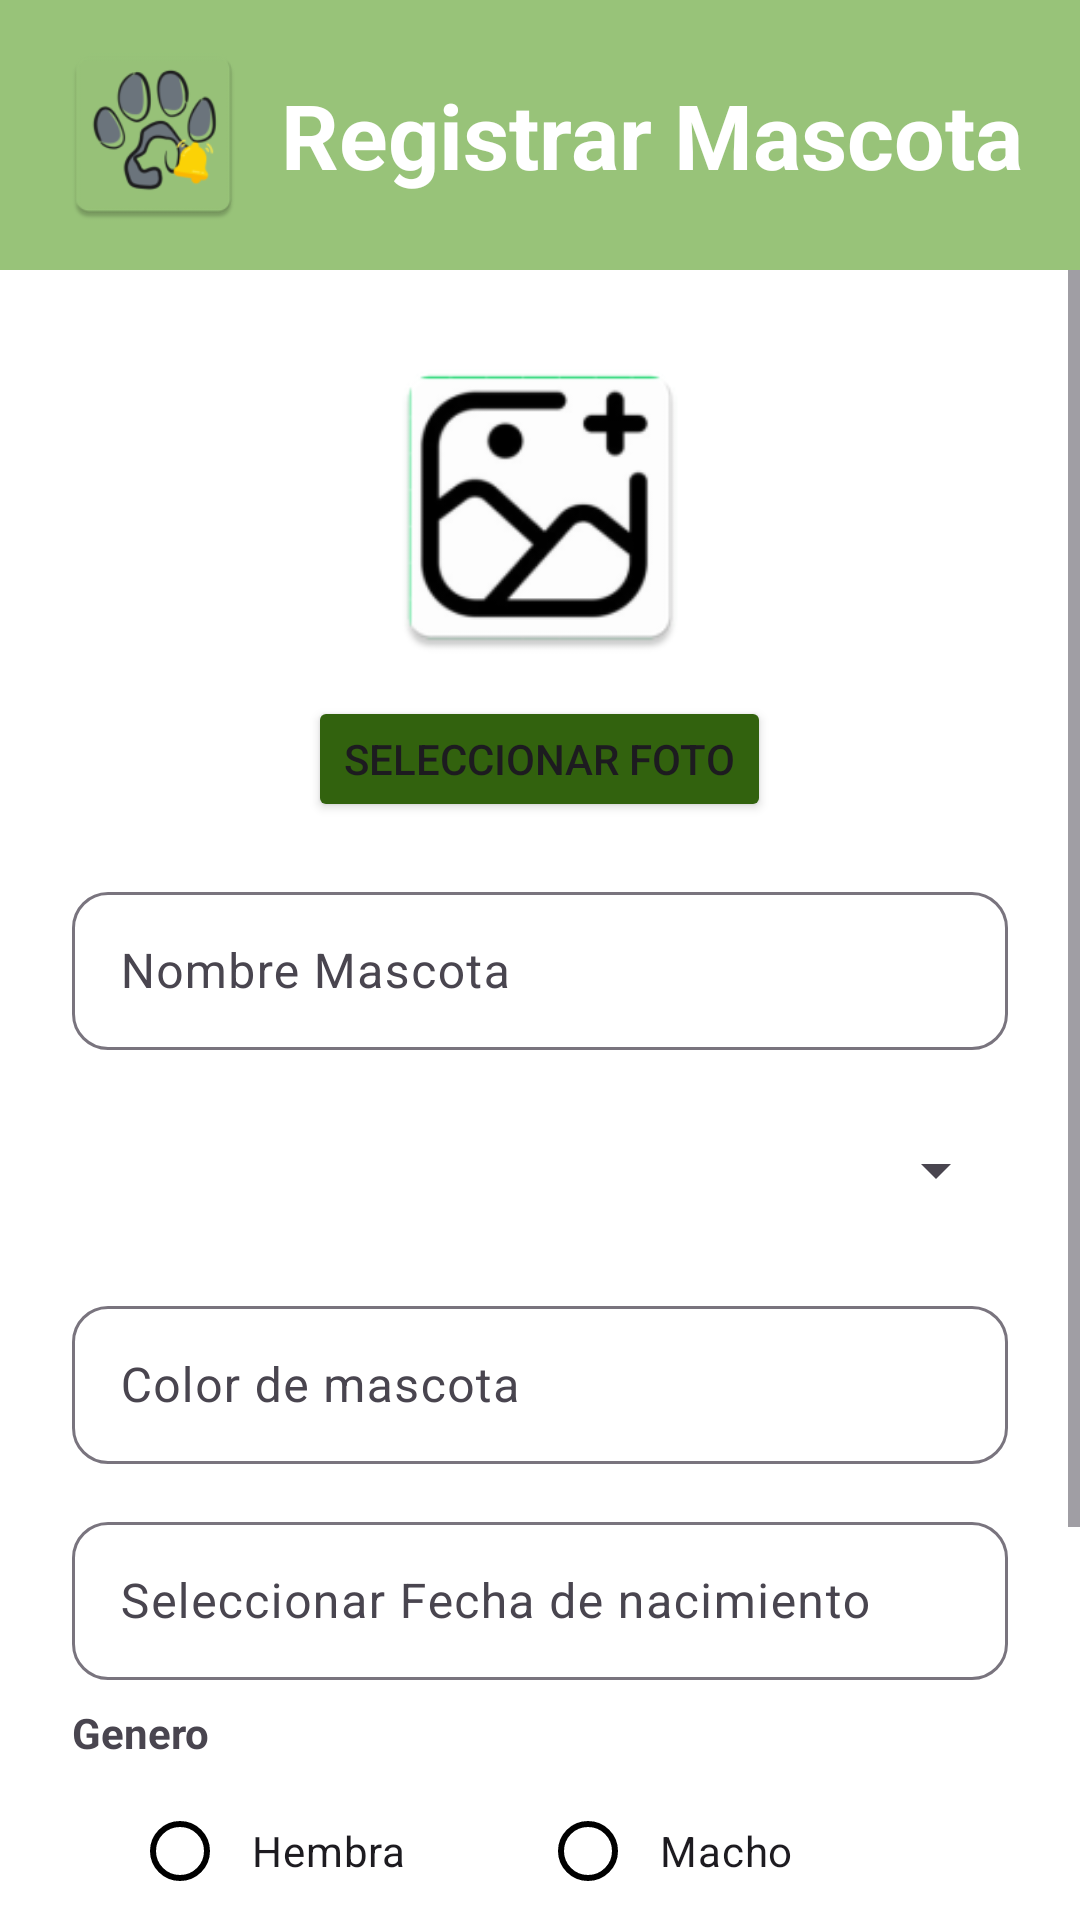

Named icons in this screenshot (1080px x 1920px) and their centers, (x=x, y=y):
Imagen de mascota: (x=539, y=510)
